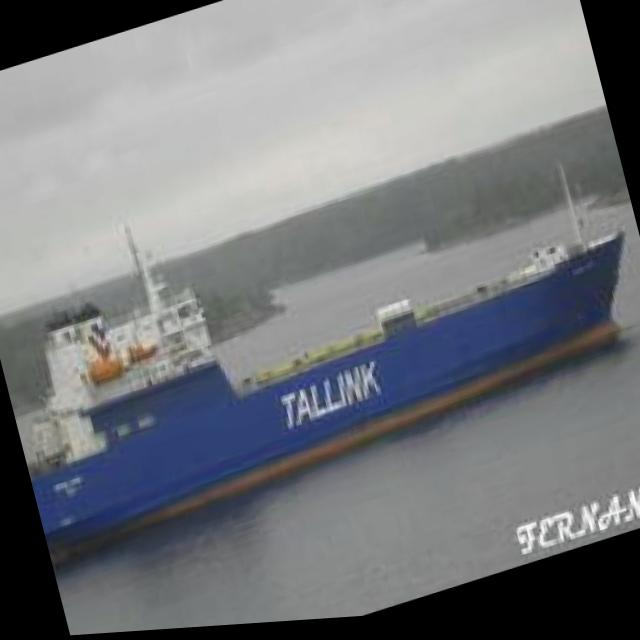ship2: (27, 171, 625, 562)
